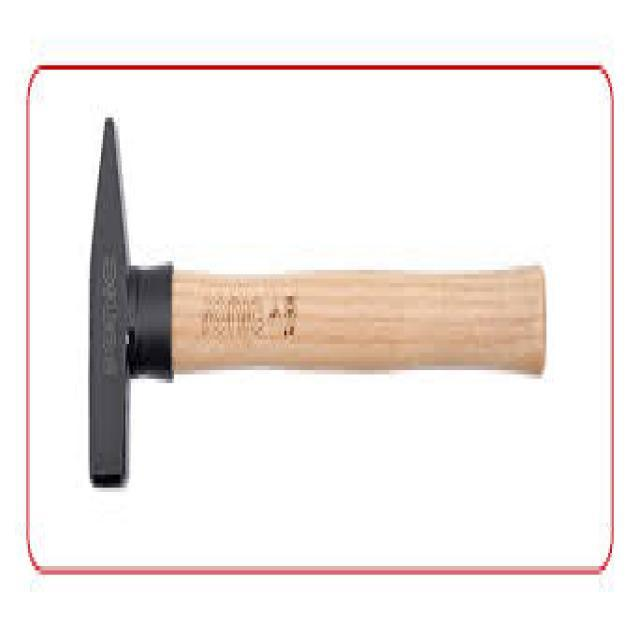Palu: (82, 110, 557, 516)
